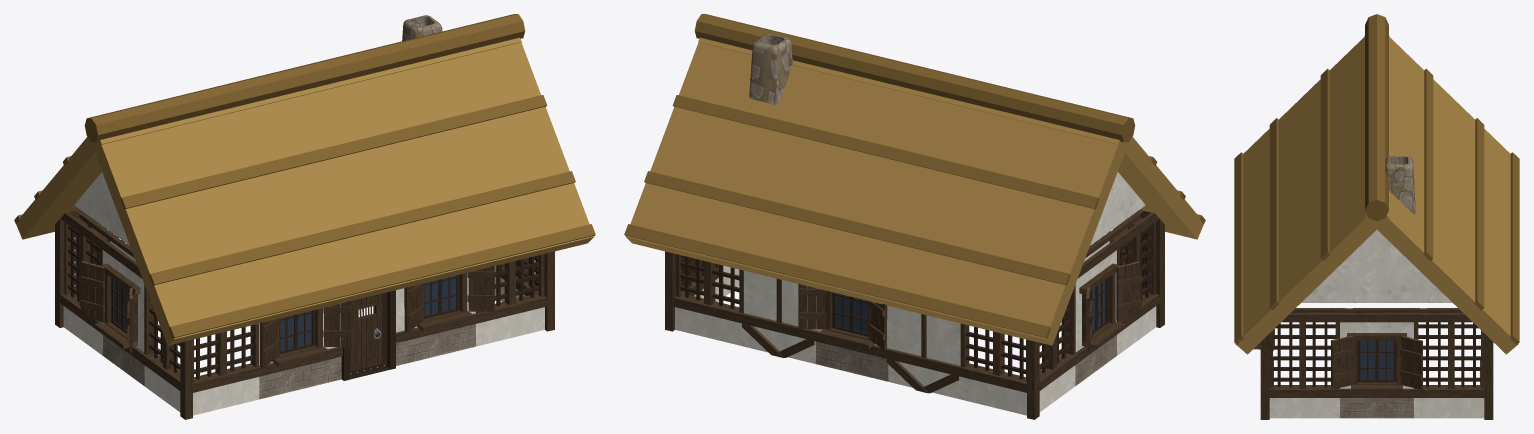
File: farmhouse.glb
3 renders of one model, left to right at view 1: azimuth 30°, elevation 25°; view 2: azimuth 150°, elevation 25°; view 3: azimuth 270°, elevation 25°, orthographic. The views are drawn at different scales.
Parts seen in each view (by area): view 1: RoofSlab.033, RidgeRoll.043, RoofSlab.037, Course.036, Course.034, Course.035, Wall_Plaster_WoodGrid.001, Wall_Plaster_WoodGrid.011, Wall_Plaster_WoodGrid.019, Door_8_Flat.007, Wall_Plaster_WoodGrid.023, Wall_Plaster_Window_Wide_Flat.020 (+17 smaller); view 2: RoofSlab.037, RidgeRoll.043, RoofSlab.033, Wall_Plaster_Straight.017, Course.040, Course.038, Course.039, Wall_Plaster_Straight.013, Wall_Plaster_WoodGrid.018, Wall_Plaster_WoodGrid.012, Wall_Plaster_WoodGrid.023, Wall_Plaster_WoodGrid.019 (+13 smaller); view 3: RoofSlab.033, RoofSlab.037, Wall_Plaster_WoodGrid.024, Gable.041, Wall_Plaster_WoodGrid.028, RidgeRoll.043, Wall_Plaster_Window_Wide_Flat.025, Window_Wide_Flat1.026, WindowShutters_Wide_Flat_Open.027, Course.034, Course.038, Course.036 (+6 smaller).
Part boxes in pixels (x1=…): RoofSlab.033: x1=91, y1=42, x2=594, y2=345; RidgeRoll.043: x1=84, y1=14, x2=525, y2=142; RoofSlab.037: x1=16, y1=37, x2=521, y2=239; Course.036: x1=169, y1=224, x2=595, y2=338; Course.034: x1=120, y1=95, x2=547, y2=209; Course.035: x1=149, y1=171, x2=575, y2=285; Wall_Plaster_WoodGrid.001: x1=193, y1=323, x2=261, y2=415; Wall_Plaster_WoodGrid.011: x1=476, y1=254, x2=546, y2=346; Wall_Plaster_WoodGrid.019: x1=60, y1=209, x2=114, y2=355; Door_8_Flat.007: x1=350, y1=292, x2=387, y2=376; Wall_Plaster_WoodGrid.023: x1=141, y1=276, x2=194, y2=411; Wall_Plaster_Window_Wide_Flat.020: x1=99, y1=235, x2=144, y2=385; RoofSlab.037: x1=625, y1=42, x2=1128, y2=345; RidgeRoll.043: x1=694, y1=14, x2=1135, y2=142; RoofSlab.033: x1=698, y1=37, x2=1203, y2=239; Wall_Plaster_Straight.017: x1=886, y1=306, x2=960, y2=399; Course.040: x1=624, y1=224, x2=1050, y2=338; Course.038: x1=672, y1=95, x2=1099, y2=209; Course.039: x1=644, y1=171, x2=1070, y2=285; Wall_Plaster_Straight.013: x1=742, y1=270, x2=815, y2=363; Wall_Plaster_WoodGrid.018: x1=958, y1=323, x2=1026, y2=415; Wall_Plaster_WoodGrid.012: x1=673, y1=254, x2=743, y2=346; Wall_Plaster_WoodGrid.023: x1=1105, y1=209, x2=1159, y2=355; Wall_Plaster_WoodGrid.019: x1=1026, y1=276, x2=1078, y2=411; RoofSlab.033: x1=1235, y1=35, x2=1389, y2=354; RoofSlab.037: x1=1364, y1=35, x2=1518, y2=354; Wall_Plaster_WoodGrid.024: x1=1269, y1=308, x2=1339, y2=418; Gable.041: x1=1301, y1=230, x2=1452, y2=302; Wall_Plaster_WoodGrid.028: x1=1414, y1=308, x2=1484, y2=418; RidgeRoll.043: x1=1365, y1=14, x2=1388, y2=221; Wall_Plaster_Window_Wide_Flat.025: x1=1340, y1=308, x2=1413, y2=418; Window_Wide_Flat1.026: x1=1347, y1=333, x2=1406, y2=392; WindowShutters_Wide_Flat_Open.027: x1=1331, y1=336, x2=1422, y2=389; Course.034: x1=1320, y1=68, x2=1330, y2=260; Course.038: x1=1423, y1=68, x2=1433, y2=260; Course.036: x1=1234, y1=152, x2=1243, y2=344.
Bounding box in the file's own units: 11.8 × 6.99 × 7.67.
Materials: 9 (6 with a texture image).
